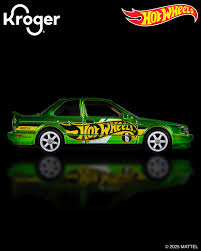Car: (7, 97, 193, 153)
